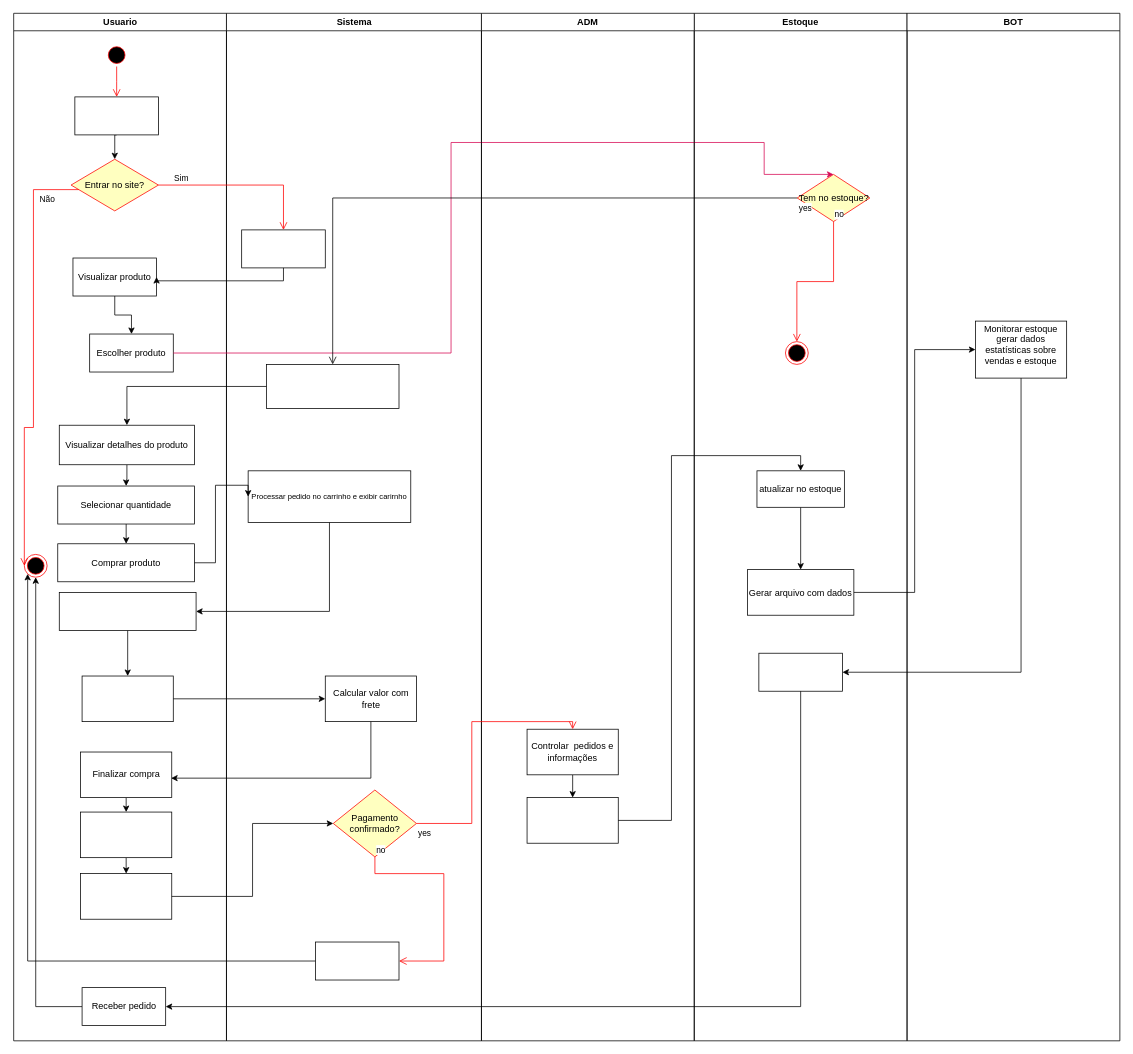
This 1133x1054 diagram has some shape labels left out. Here are the shapes that lost their labels. From the top down, the centre of each, then its label:
At point 116,115: "Acessar o site".
At point 283,248: "Exibir produto".
At point 332,386: "Exibir informações do produto".
At point 127,611: "Visualizar carrinho".
At point 800,671: "Realizar entrega".
At point 127,698: "Escolher frete".
At point 126,834: "Preencher informações de pagamento".
At point 572,820: "Exportar dados sobre vendas".
At point 126,896: "Realizar pagamento".
At point 357,960: "Exibir mensagem pag. não realizado".
